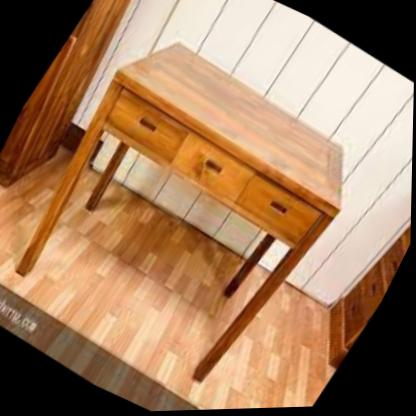Table: (0, 0, 399, 416)
